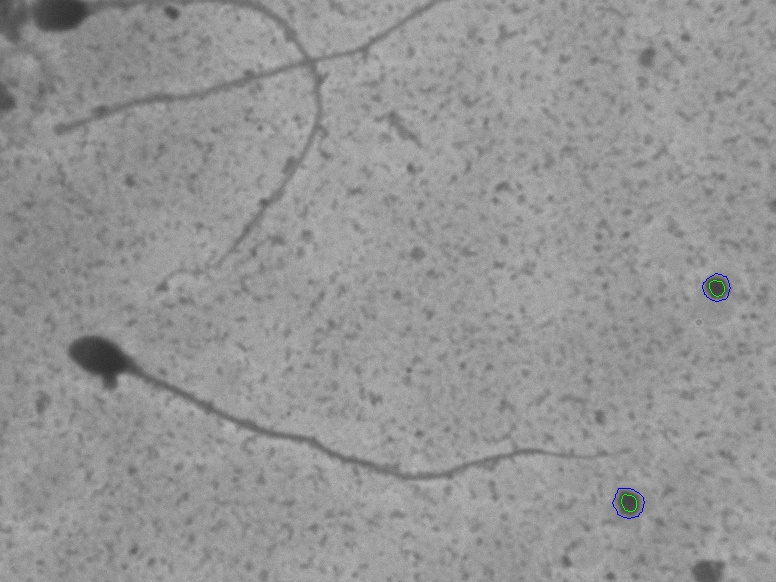Abnormal: (52, 321, 614, 518)
